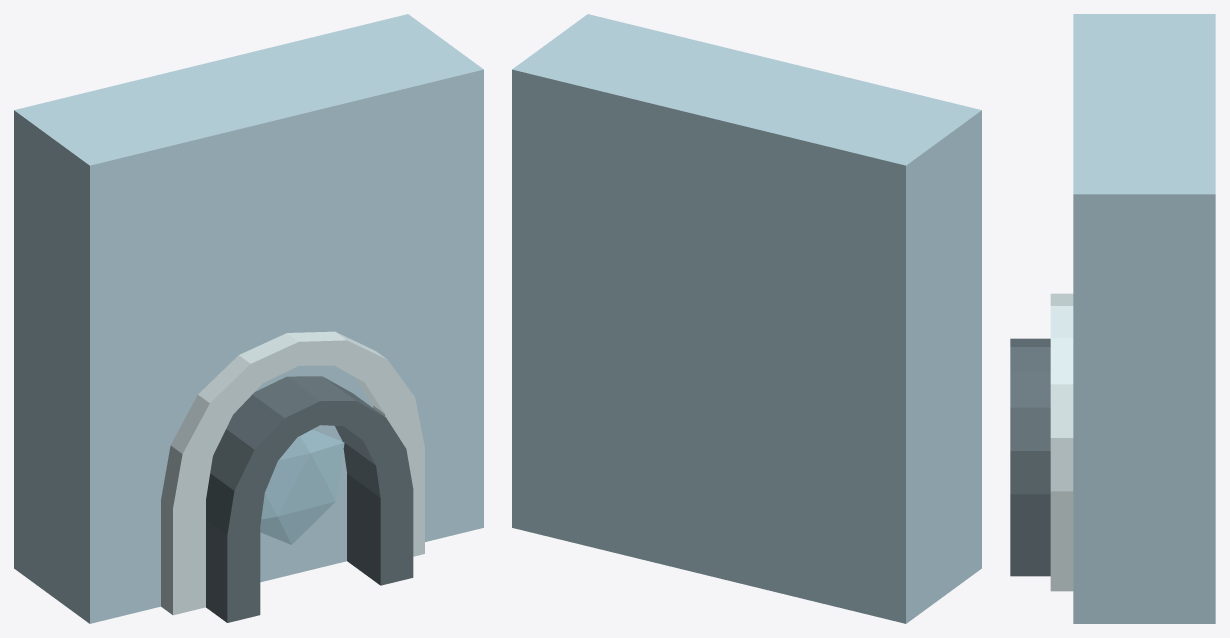
File: dragons_ice_cave_near-C8Tsxw4c.glb
3 renders of one model, left to right at view 1: azimuth 30°, elevation 25°; view 2: azimuth 150°, elevation 25°; view 3: azimuth 270°, elevation 25°, orthographic. The views are drawn at different scales.
Visible parts, largest first — view 1: dragons_ice_cave_near; view 2: dragons_ice_cave_near; view 3: dragons_ice_cave_near.
Part boxes in pixels (bbox=[...]): dragons_ice_cave_near: bbox=[14, 14, 483, 623]; dragons_ice_cave_near: bbox=[512, 14, 981, 623]; dragons_ice_cave_near: bbox=[1010, 14, 1215, 623].
Bounding box in the file's own units: 18 × 20 × 8.65.
